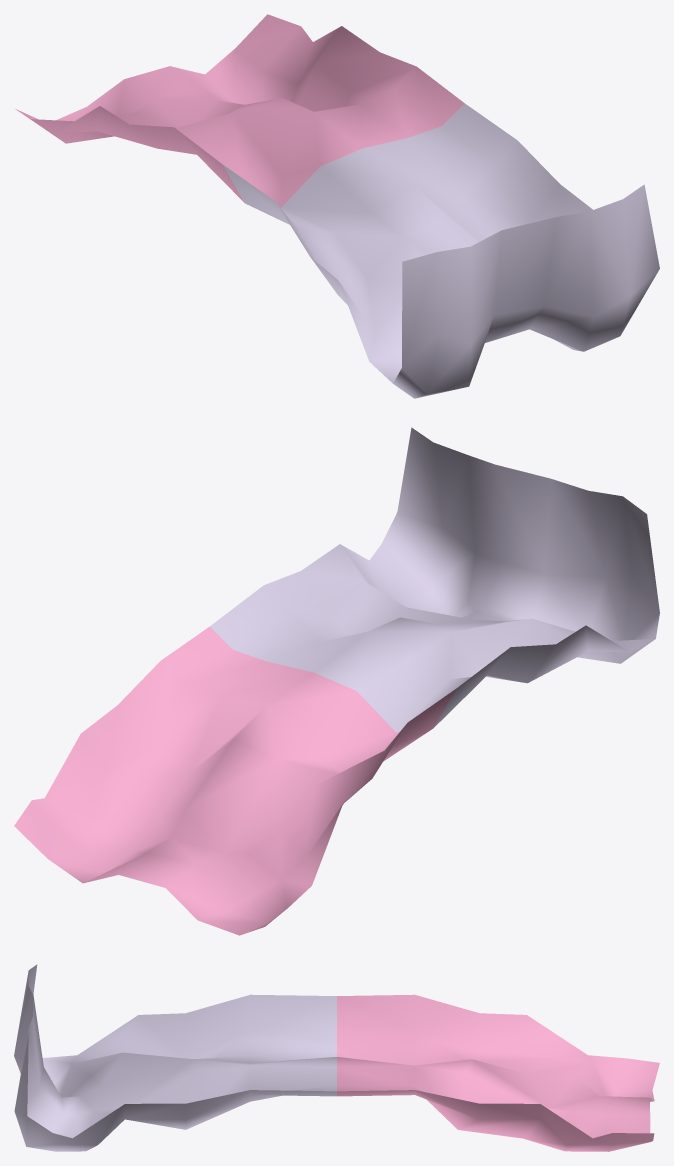
The picture shows the model from 3 angles, top to bottom: view 1: azimuth 30°, elevation 25°; view 2: azimuth 150°, elevation 25°; view 3: azimuth 270°, elevation 25°; orthographic projection. The views are drawn at different scales.
Parts seen in each view (by area): view 1: Object20; view 2: Object20; view 3: Object20.
Part boxes in pixels (bbox=[...]): Object20: bbox=[15, 14, 659, 398]; Object20: bbox=[14, 427, 659, 935]; Object20: bbox=[14, 964, 659, 1151].
Bounding box in the file's own units: 48245 × 30223 × 126947.
